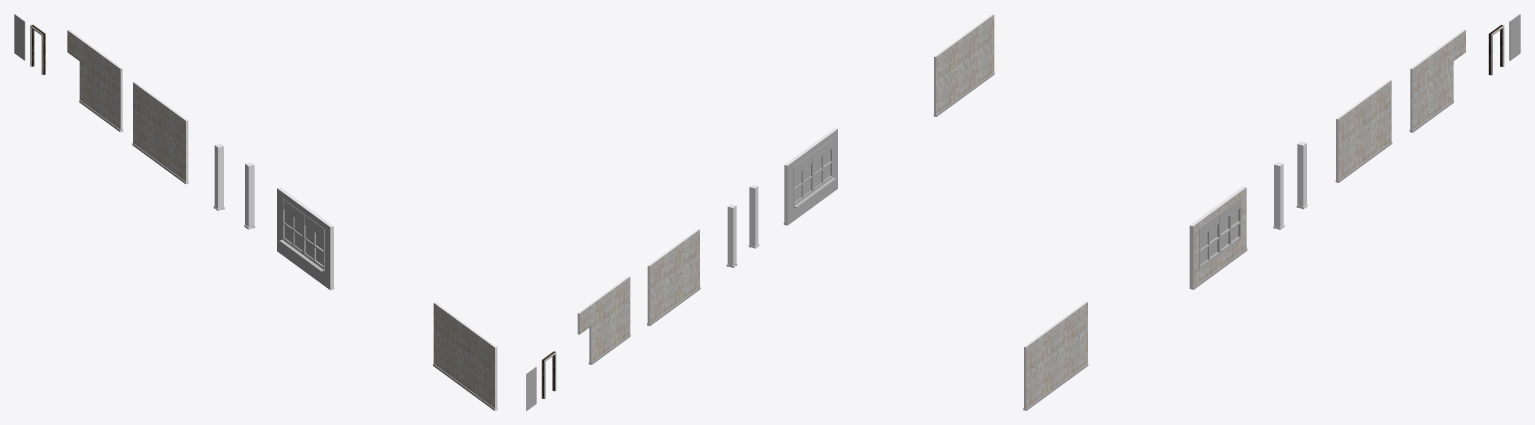
The model's file is Paquete_1_1.fbx.
3 views of the same model, side by side, from view 1: azimuth 30°, elevation 25°; view 2: azimuth 150°, elevation 25°; view 3: azimuth 330°, elevation 25° (orthographic). The views are drawn at different scales.
Parts seen in each view (by area): view 1: ID187, ID597, ID551, ID4884, Columna_Int_2, Columna_Int_3, group_18, ID4854, ID4766; view 2: ID187, ID597, ID551, ID4884, Columna_Int_3, Columna_Int_2, ID4854; view 3: group_6, group_24, group_22, ID4860, Columna_Int_2, Columna_Int_3, ID4854, group_18, ID4940.
Part boxes in pixels (x1,y1,x2,y2): ID187: (433, 303, 494, 408); ID597: (133, 82, 185, 181); ID551: (67, 30, 120, 129); ID4884: (277, 188, 330, 289); Columna_Int_2: (244, 162, 255, 229); Columna_Int_3: (213, 143, 224, 210); group_18: (14, 14, 25, 60); ID4854: (277, 187, 334, 290); ID4766: (282, 199, 324, 269); ID187: (936, 15, 994, 114); ID597: (649, 229, 699, 323); ID551: (579, 277, 630, 362); ID4884: (787, 129, 837, 225); Columna_Int_3: (726, 204, 737, 267); Columna_Int_2: (748, 185, 759, 248); ID4854: (783, 128, 837, 225); group_6: (1026, 302, 1087, 408); group_24: (1338, 80, 1391, 180); group_22: (1412, 30, 1465, 129); ID4860: (1193, 187, 1246, 287); Columna_Int_2: (1273, 162, 1284, 229); Columna_Int_3: (1296, 141, 1307, 209); ID4854: (1189, 186, 1246, 289); group_18: (1509, 14, 1520, 60); ID4940: (1199, 198, 1241, 269).
Size of what is drawn, in the model's own units: 25.79 by 134 by 1871.
